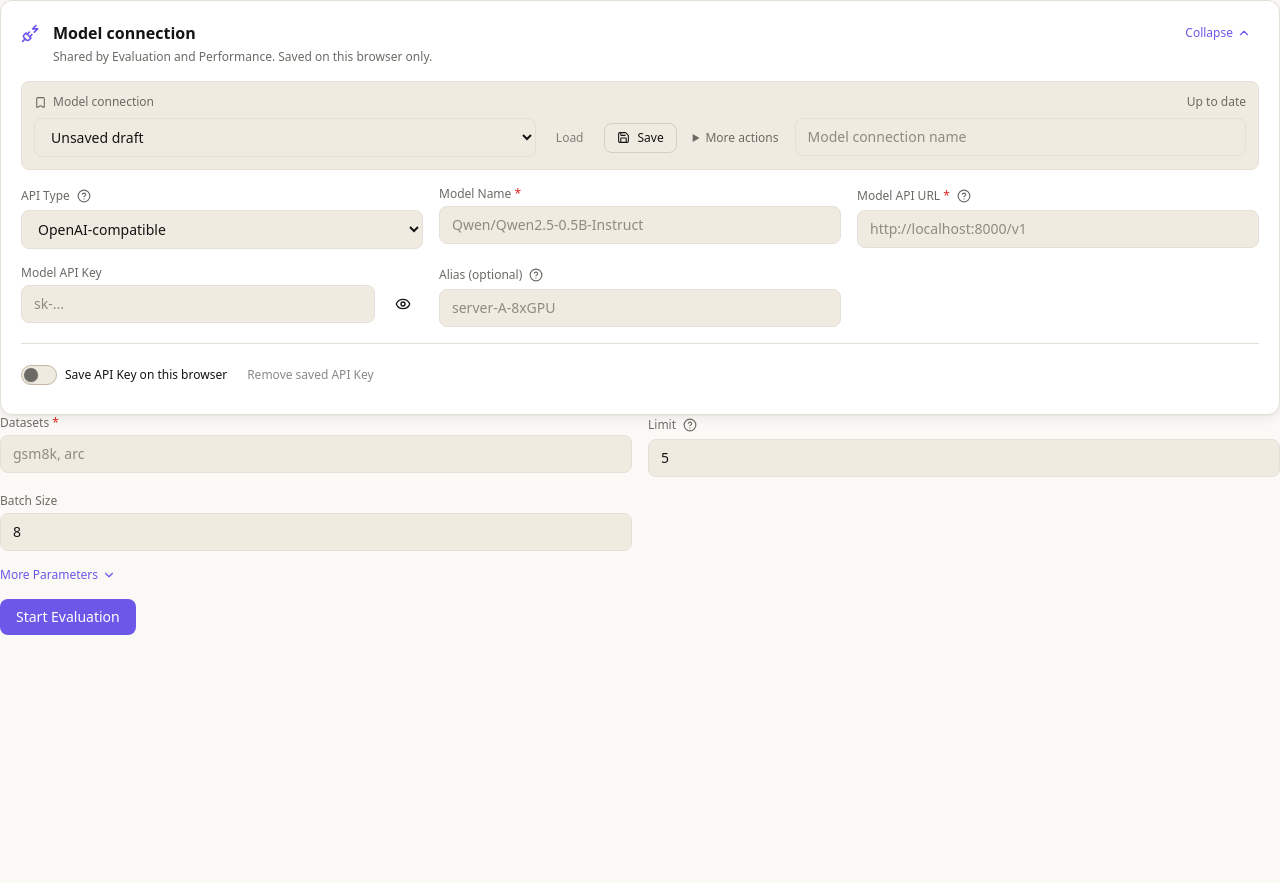
EvalConfigForm submit contract › toggles the More Parameters disclosure
Check: the field labelled "Temperature" is not shown
Click the button "More Parameters". click: (58, 575)
box: 0,567 -> 116,583
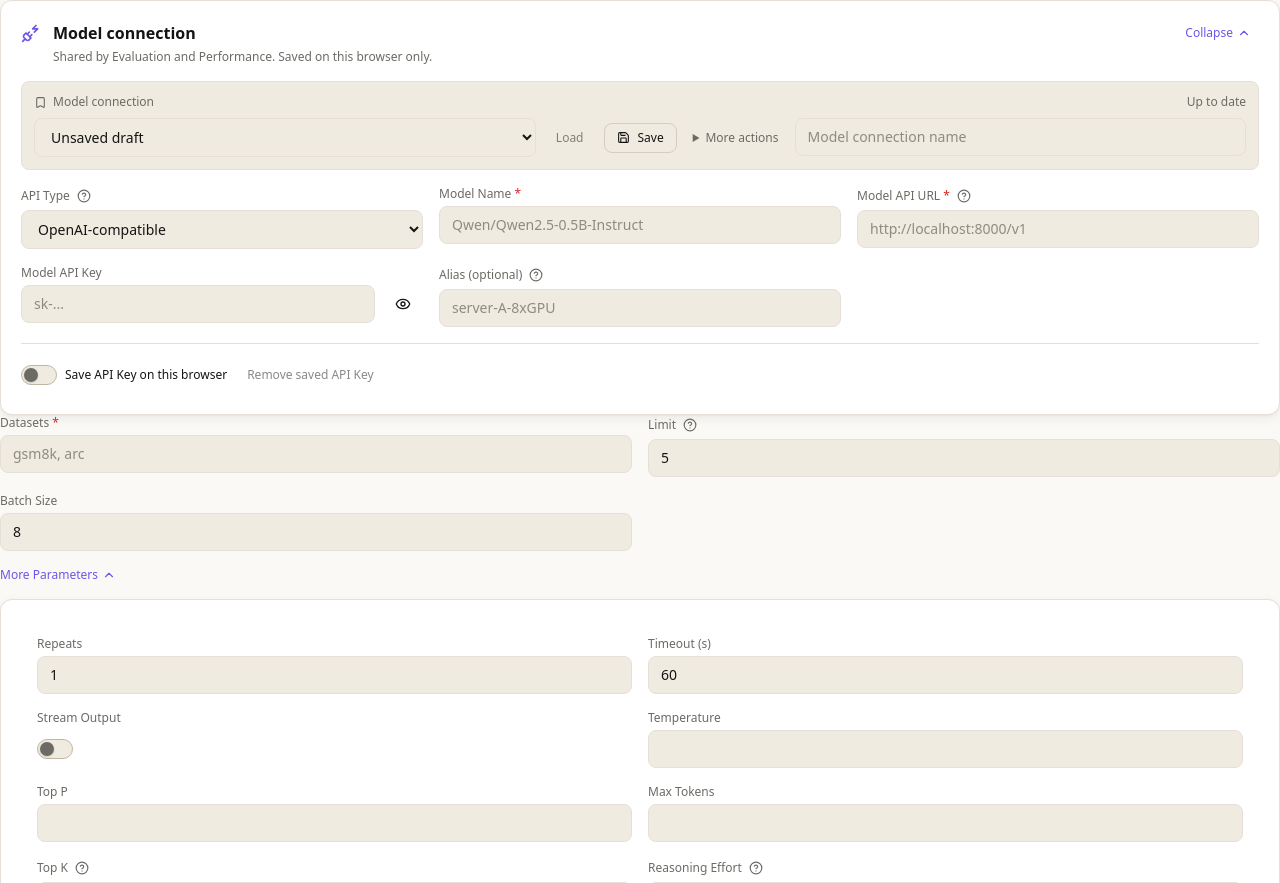
Check: the number field labelled "Temperature" is shown, box 648,730 -> 1243,768
Click the button "More Parameters". click: (58, 575)
box: 0,567 -> 116,583
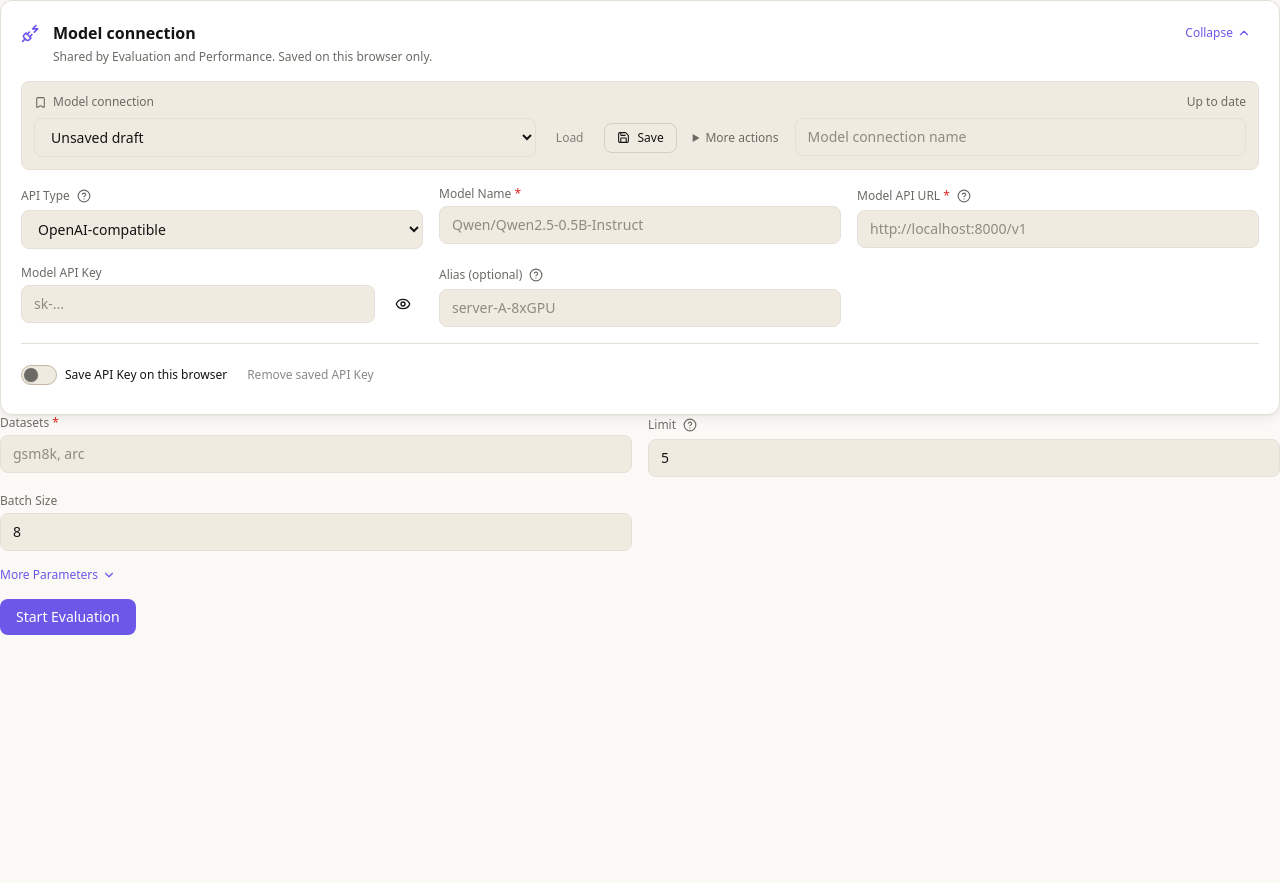
Check: the label labelled "Temperature" is gone
